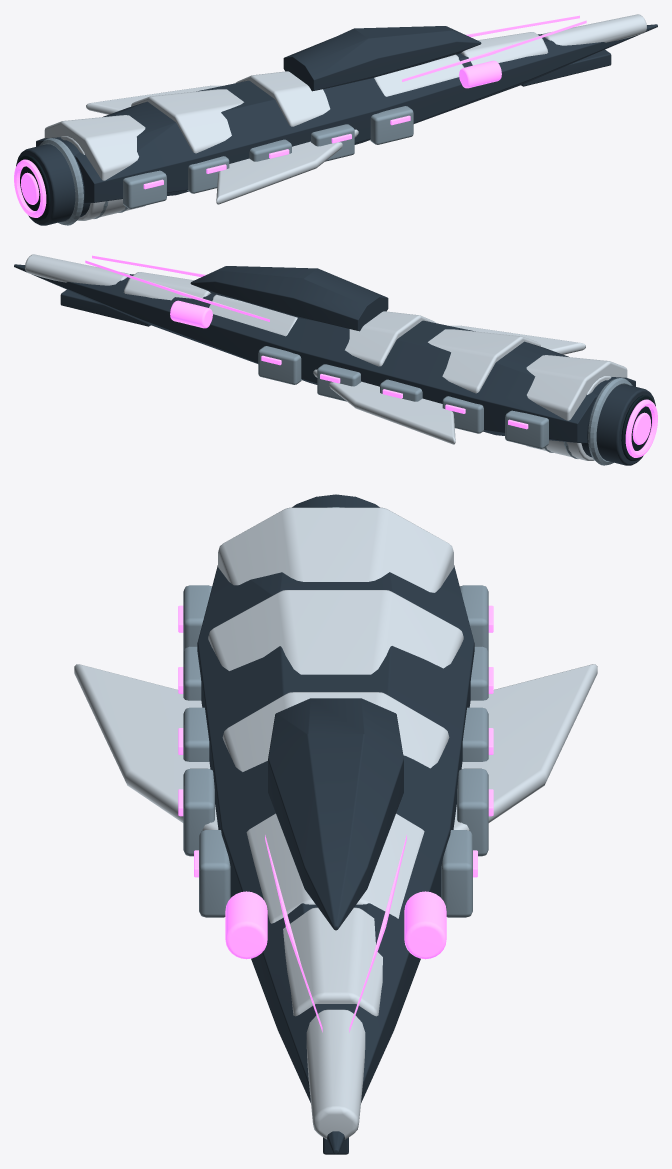
File: ship-01.glb
3 views of the same model, one above another, from view 1: azimuth 30°, elevation 25°; view 2: azimuth 150°, elevation 25°; view 3: azimuth 270°, elevation 25° (orthographic). The views are drawn at different scales.
Visible parts, largest first — view 1: Graphite frame, Ceramic titanium, Machined silver, Ion violet, Carbon insets; view 2: Graphite frame, Ceramic titanium, Machined silver, Ion violet, Carbon insets; view 3: Ceramic titanium, Graphite frame, Machined silver, Ion violet.
Boxes of the visible parts, <box> form: Graphite frame: <box>16,24,657,225</box>; Ceramic titanium: <box>44,14,646,220</box>; Machined silver: <box>39,106,413,225</box>; Ion violet: <box>14,15,586,217</box>; Carbon insets: <box>17,155,50,220</box>; Graphite frame: <box>14,264,655,465</box>; Ceramic titanium: <box>25,254,627,460</box>; Machined silver: <box>258,346,632,465</box>; Ion violet: <box>85,255,657,457</box>; Carbon insets: <box>621,395,654,460</box>; Ceramic titanium: <box>74,507,597,1139</box>; Graphite frame: <box>197,494,474,1154</box>; Machined silver: <box>183,507,488,917</box>; Ion violet: <box>178,605,493,1032</box>.
Size of the model in its own units: 6 by 1.05 by 2.16.
